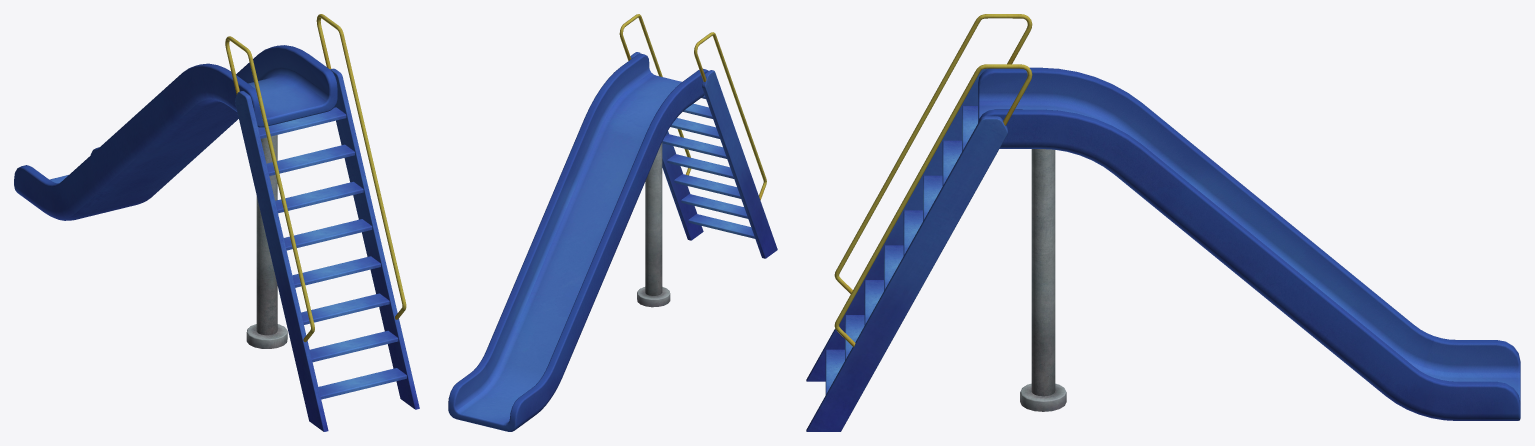
File: Slide.glb
3 renders of one model, left to right at view 1: azimuth 30°, elevation 25°; view 2: azimuth 150°, elevation 25°; view 3: azimuth 270°, elevation 25°, orthographic. The views are drawn at different scales.
Parts seen in each view (by area): view 1: Slide__LOD3; view 2: Slide__LOD3; view 3: Slide__LOD3.
Part boxes in pixels (box(x1,y1,x2,y2)): Slide__LOD3: box(14, 14, 419, 431); Slide__LOD3: box(448, 14, 777, 431); Slide__LOD3: box(806, 14, 1520, 431).
Bounding box in the file's own units: 0.8461 × 2.73 × 4.82.
Materials: 1 (1 with a texture image).
